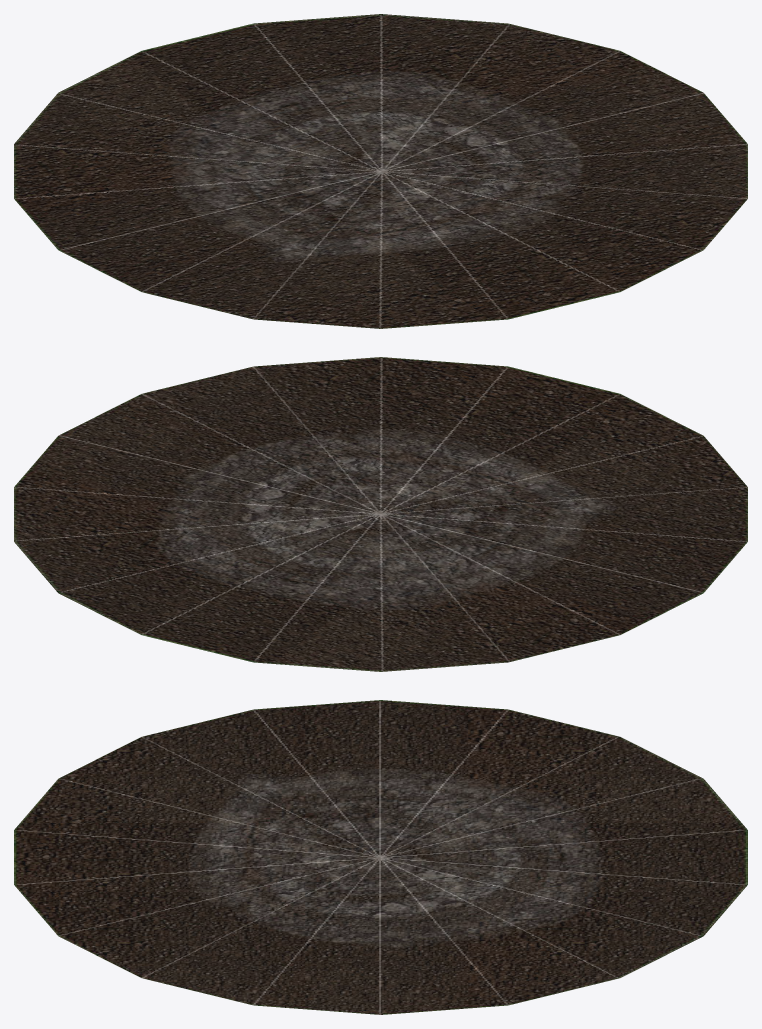
Rendered from City_Base_map.FBX.
The picture shows the model from 3 angles, top to bottom: view 1: azimuth 30°, elevation 25°; view 2: azimuth 150°, elevation 25°; view 3: azimuth 270°, elevation 25°; orthographic projection.
Visible parts, largest first — view 1: Cylinder001; view 2: Cylinder001; view 3: Cylinder001.
Part boxes in pixels (x1=…): Cylinder001: x1=14, y1=14, x2=747, y2=328; Cylinder001: x1=14, y1=357, x2=747, y2=671; Cylinder001: x1=14, y1=700, x2=747, y2=1014.
Bounding box in the file's own units: 6000 × 3.62e-13 × 5909.
